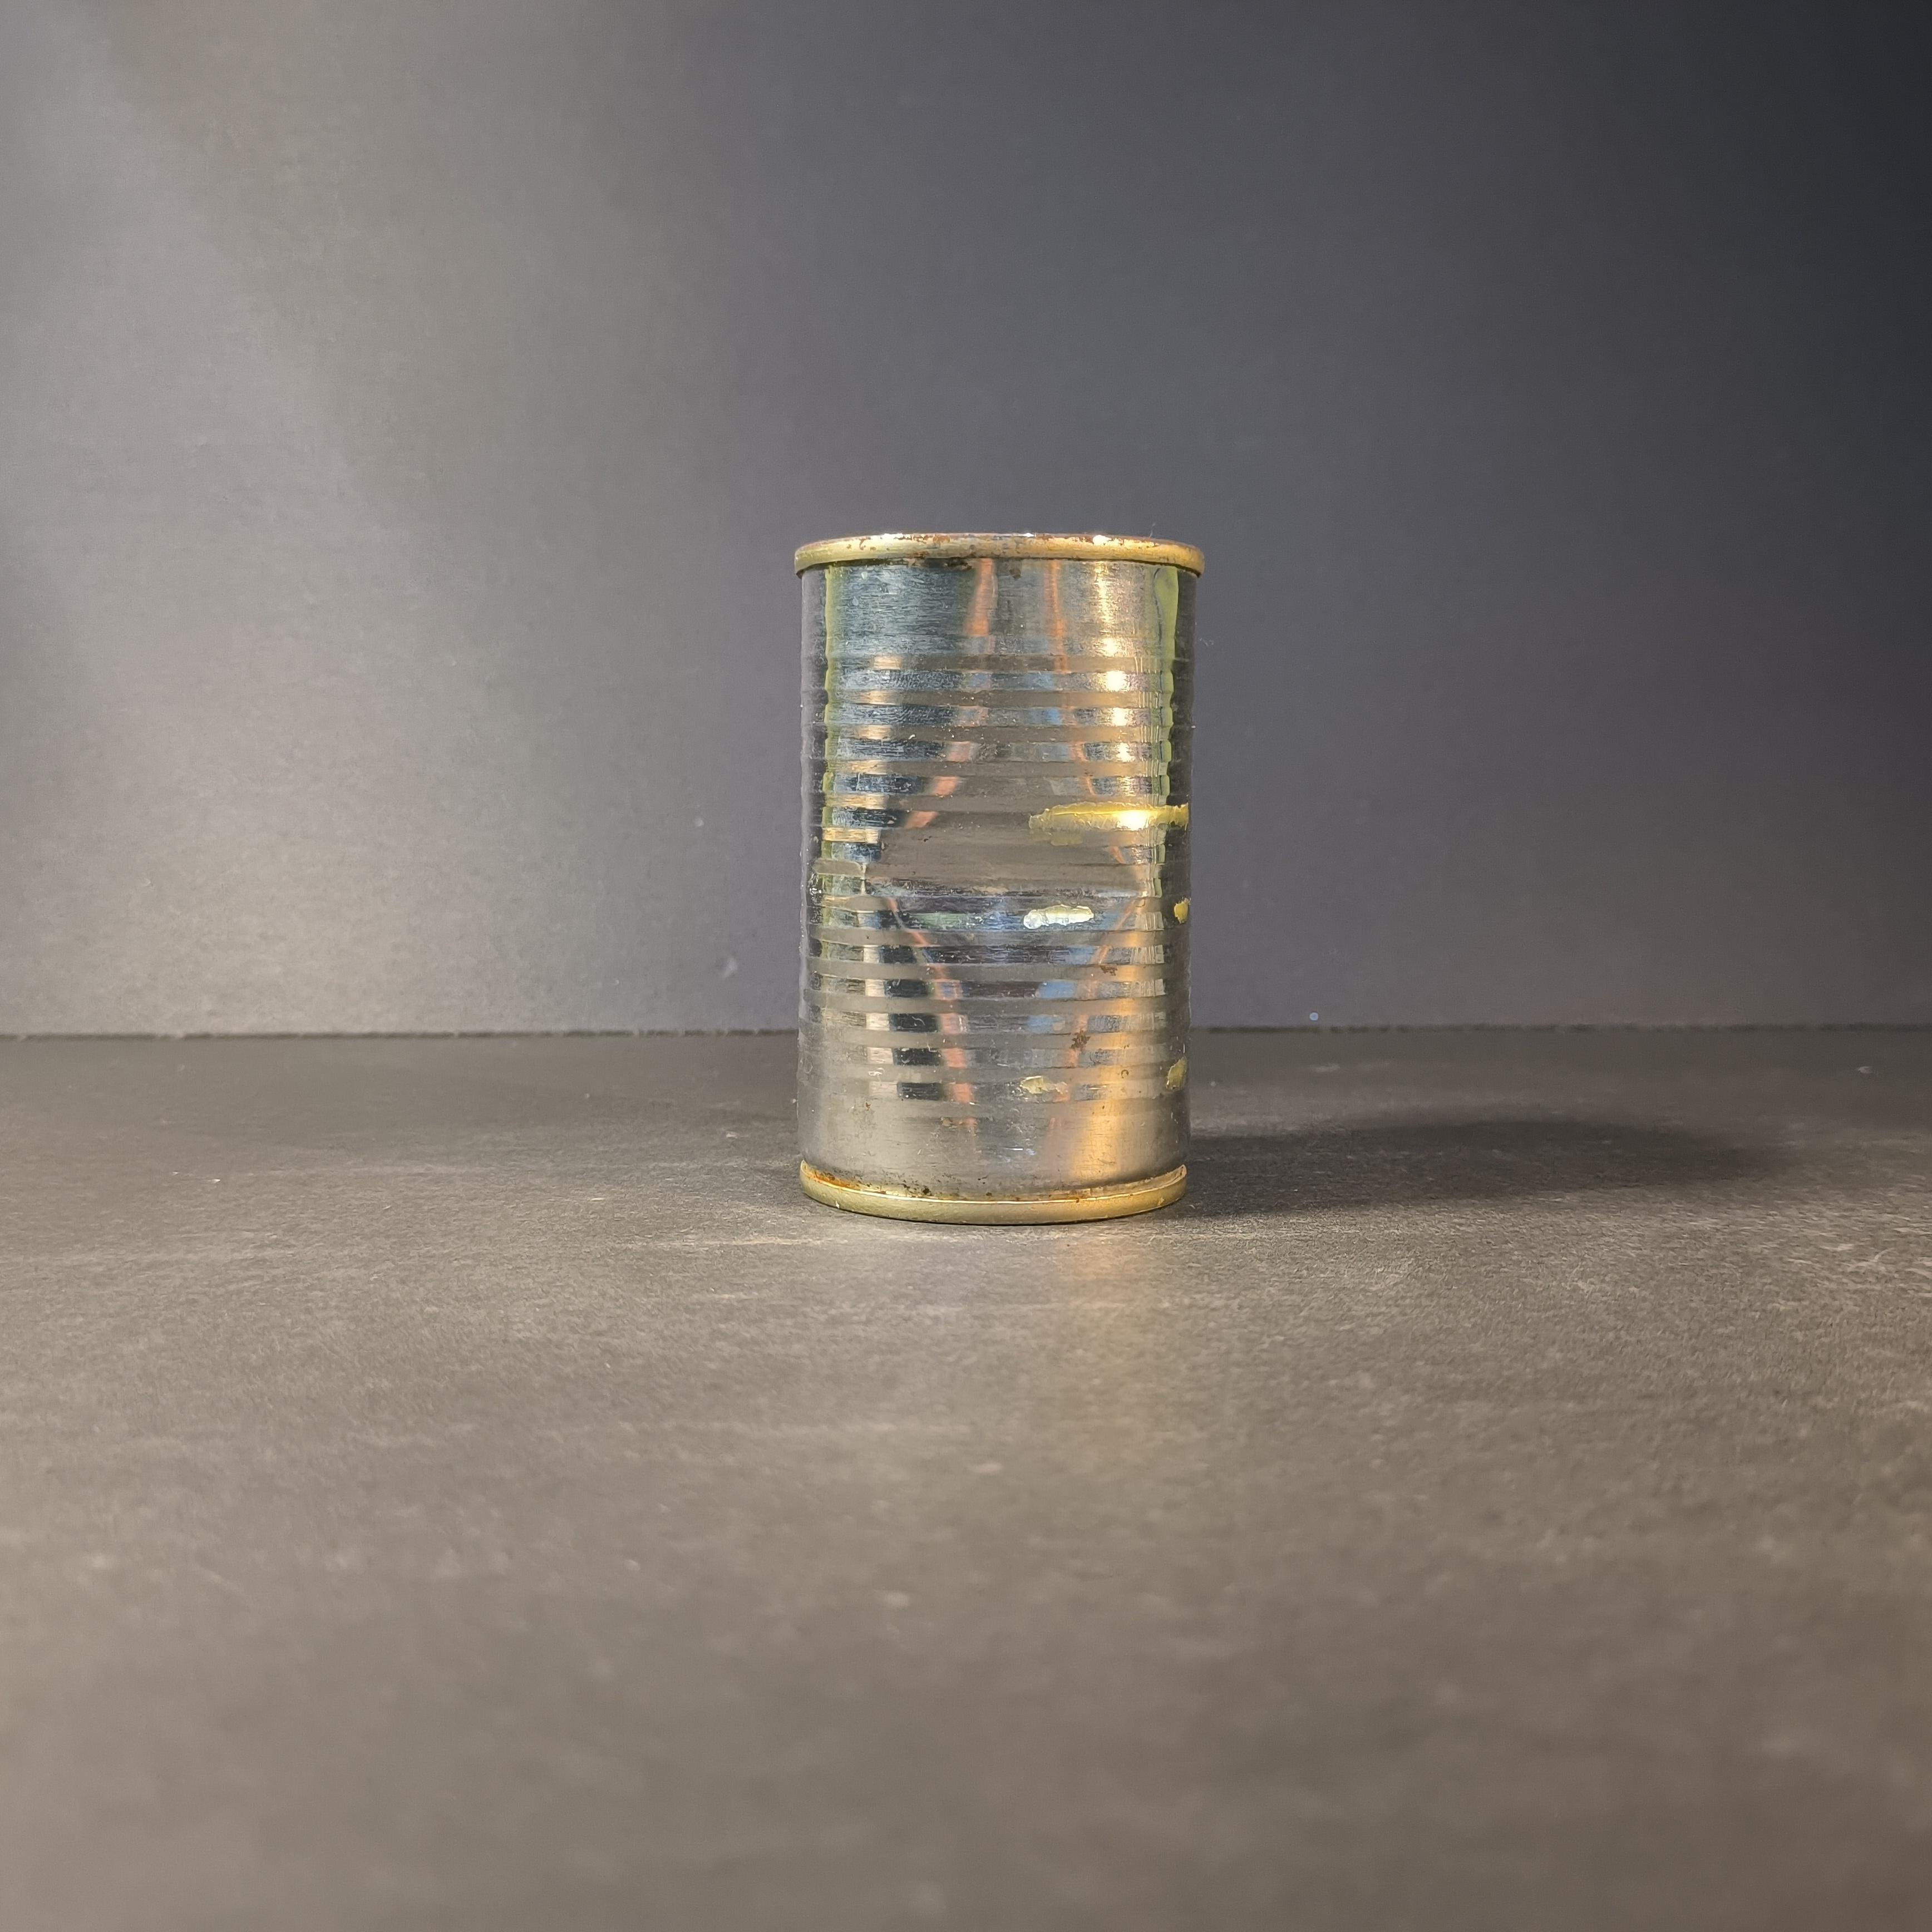Dented: (787, 481, 1191, 1254)
